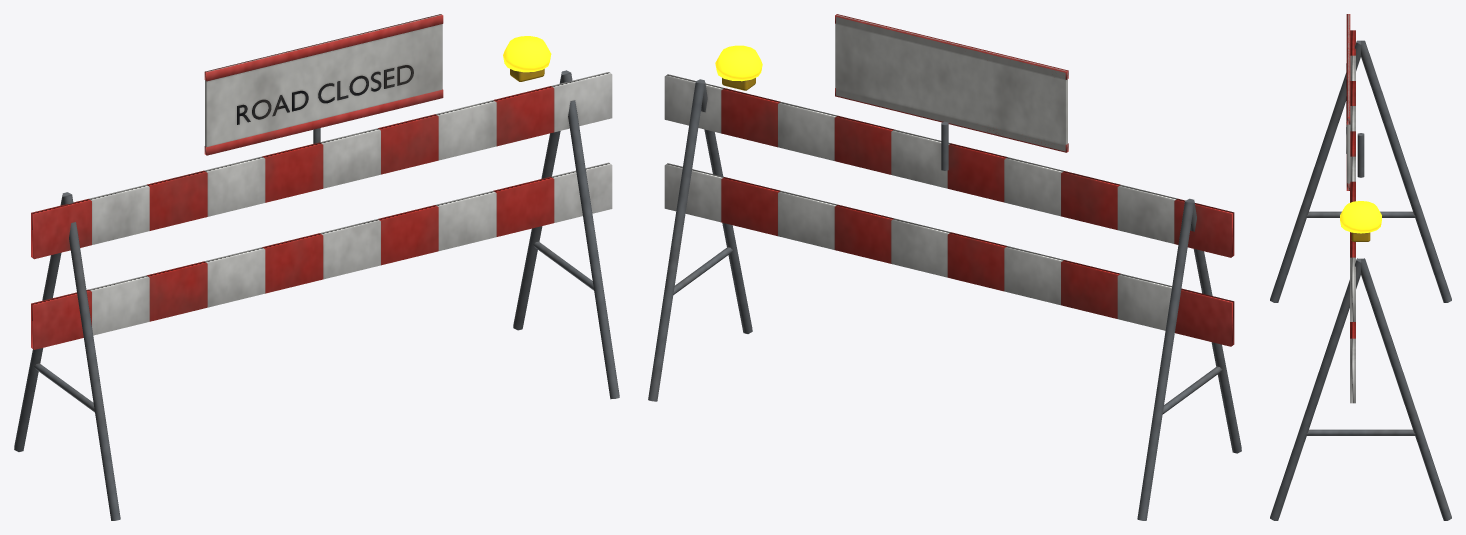
File: zapora_drogowa.glb
The picture shows the model from 3 angles, left to right: view 1: azimuth 30°, elevation 25°; view 2: azimuth 150°, elevation 25°; view 3: azimuth 270°, elevation 25°; orthographic projection. The views are drawn at different scales.
Visible parts, largest first — view 1: Zapora, Swiatlo; view 2: Zapora, Swiatlo; view 3: Zapora, Swiatlo.
Part boxes in pixels (x1=…): Zapora: x1=14, y1=14, x2=619, y2=520; Swiatlo: x1=503, y1=36, x2=551, y2=72; Zapora: x1=648, y1=14, x2=1241, y2=520; Swiatlo: x1=715, y1=45, x2=762, y2=81; Zapora: x1=1270, y1=14, x2=1451, y2=520; Swiatlo: x1=1340, y1=201, x2=1381, y2=233.
Bounding box in the file's own units: 2.2 × 1.4 × 0.6698.
2 materials, 1 textured.
